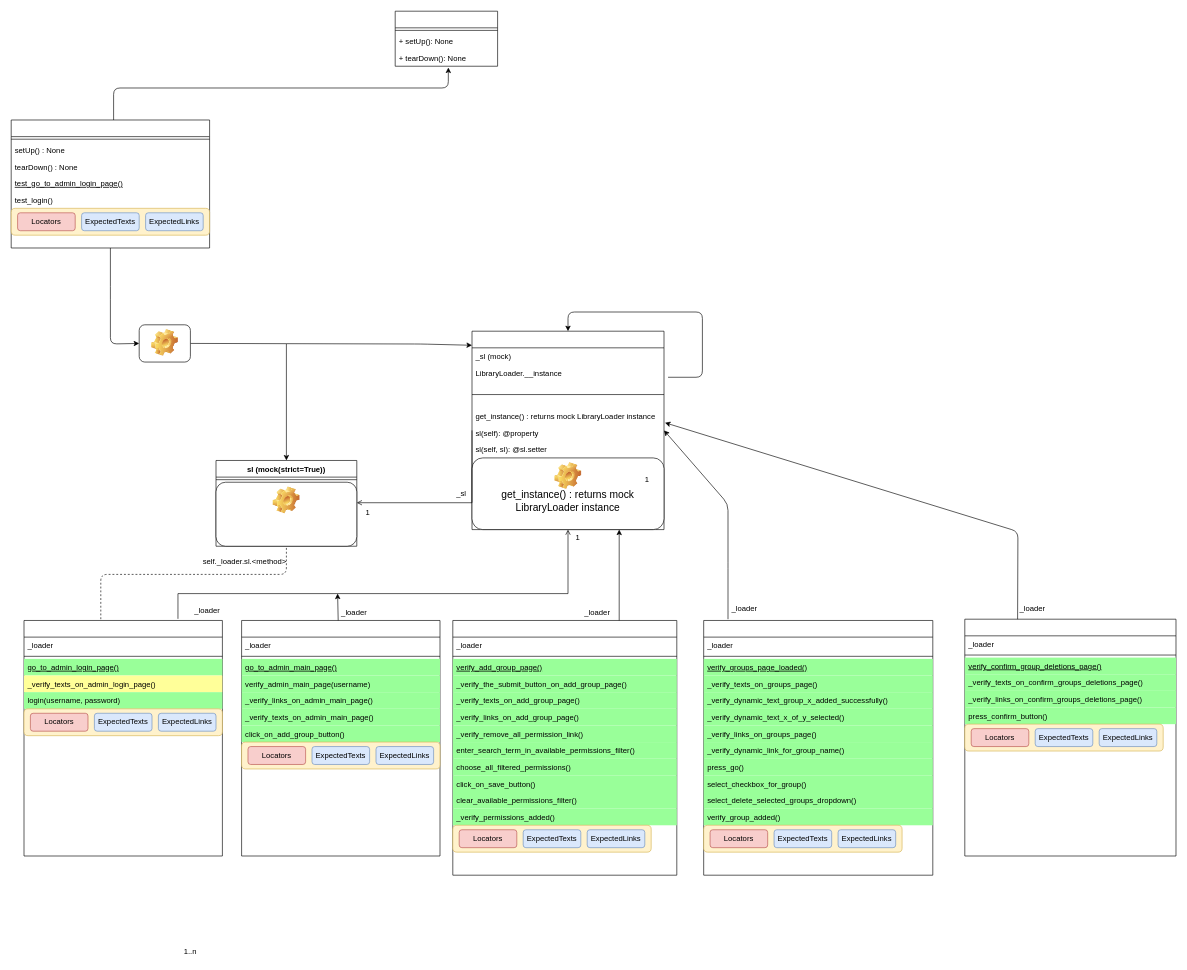
Image size: 1187x970. Some labels were removed from this diagram. The shapes that lost their labels are listed below. From the top down, each one's box as (x1, y1, x2, y2) in pixels, then its label:
(395, 11, 498, 66): unittest.TestCase
(11, 119, 210, 248): AdminLoginPageUT
(471, 331, 664, 530): LibraryLoader (singleton, mock)
(215, 482, 357, 546): pre-configured mock calls for method under test
(23, 620, 222, 856): AdminLoginPage (CUT)
(241, 620, 440, 856): AdminMainPage (CUT)
(452, 620, 677, 875): AddGroupPage (CUT)
(703, 620, 933, 875): GroupsPage (CUT)
(964, 619, 1176, 856): ConfirmGroupsDeletionsPage (CUT)
